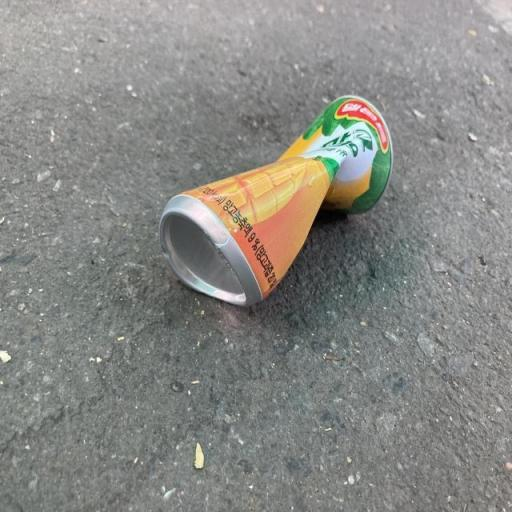metal: (137, 82, 407, 318)
